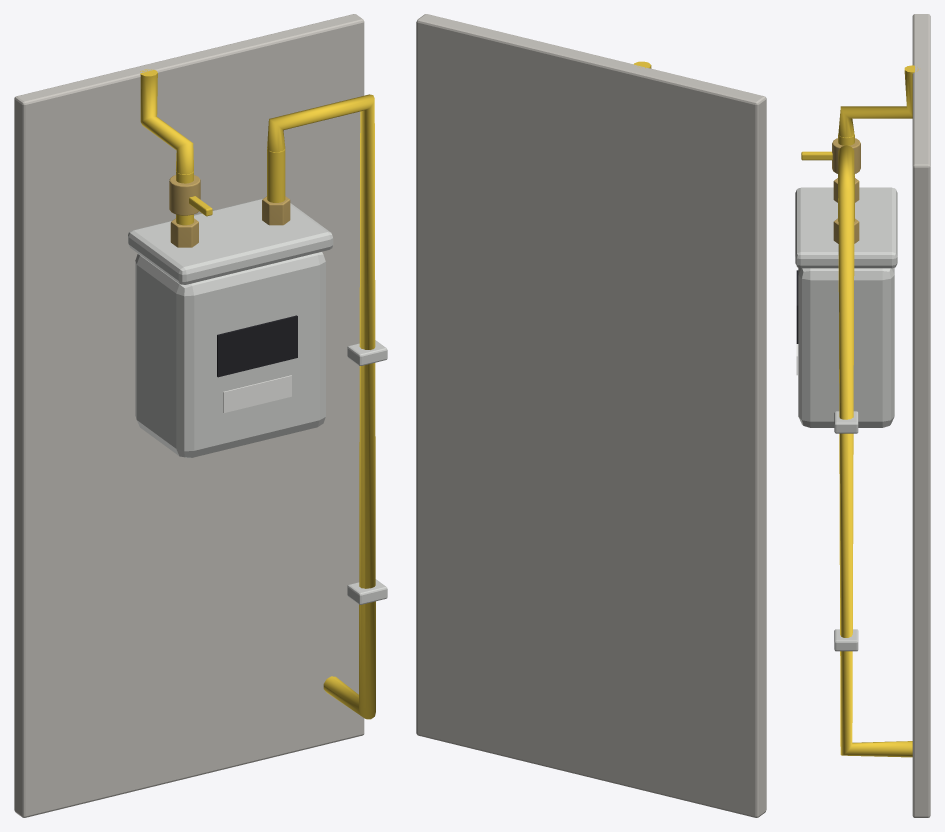
File: city-gas-meter-assembly.glb
The picture shows the model from 3 angles, left to right: view 1: azimuth 30°, elevation 25°; view 2: azimuth 150°, elevation 25°; view 3: azimuth 270°, elevation 25°; orthographic projection. The views are drawn at different scales.
Visible parts, largest first — view 1: Assembly | Fibre-cement backing board, Assembly | Pale grey meter casing, Assembly | Yellow painted gas pipe, Assembly | Black dial window, Assembly | Brass valve body, Assembly | Blank plate; view 2: Assembly | Fibre-cement backing board; view 3: Assembly | Pale grey meter casing, Assembly | Fibre-cement backing board, Assembly | Yellow painted gas pipe, Assembly | Brass valve body.
Part boxes in pixels (left/top/right/bottom): Assembly | Fibre-cement backing board: left=14, top=14, right=364, bottom=817; Assembly | Pale grey meter casing: left=128, top=198, right=387, bottom=604; Assembly | Yellow painted gas pipe: left=140, top=69, right=375, bottom=719; Assembly | Black dial window: left=217, top=315, right=297, bottom=377; Assembly | Brass valve body: left=169, top=175, right=290, bottom=247; Assembly | Blank plate: left=223, top=375, right=291, bottom=412; Assembly | Fibre-cement backing board: left=416, top=14, right=766, bottom=817; Assembly | Pale grey meter casing: left=795, top=187, right=897, bottom=651; Assembly | Fibre-cement backing board: left=912, top=14, right=930, bottom=817; Assembly | Yellow painted gas pipe: left=801, top=65, right=918, bottom=757; Assembly | Brass valve body: left=832, top=138, right=860, bottom=243.
Bounding box in the file's own units: 0.6 × 1.2 × 0.225.
